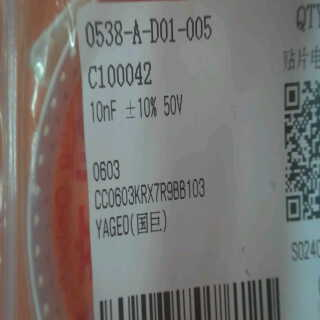10nF: (88, 97, 120, 128)
